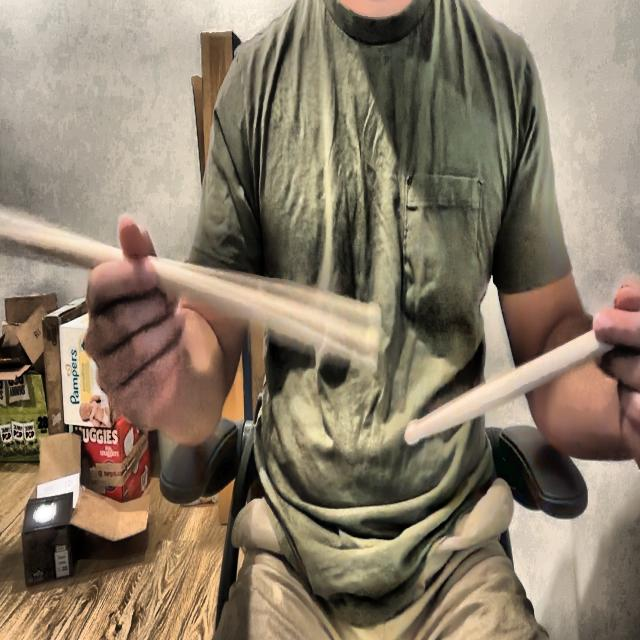Drumstick-Heads: (366, 297, 382, 381), (404, 411, 421, 450)
